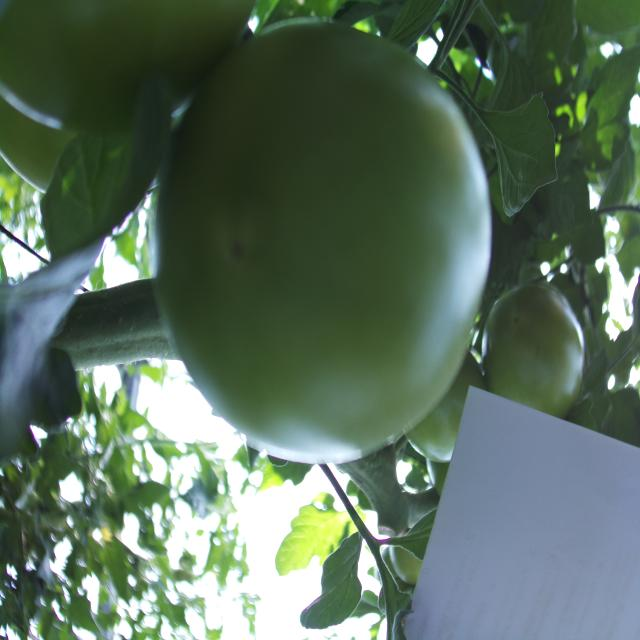yesil: (164, 11, 589, 470)
